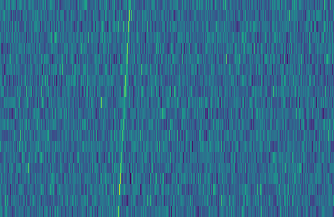signal: (112, 0, 133, 217)
